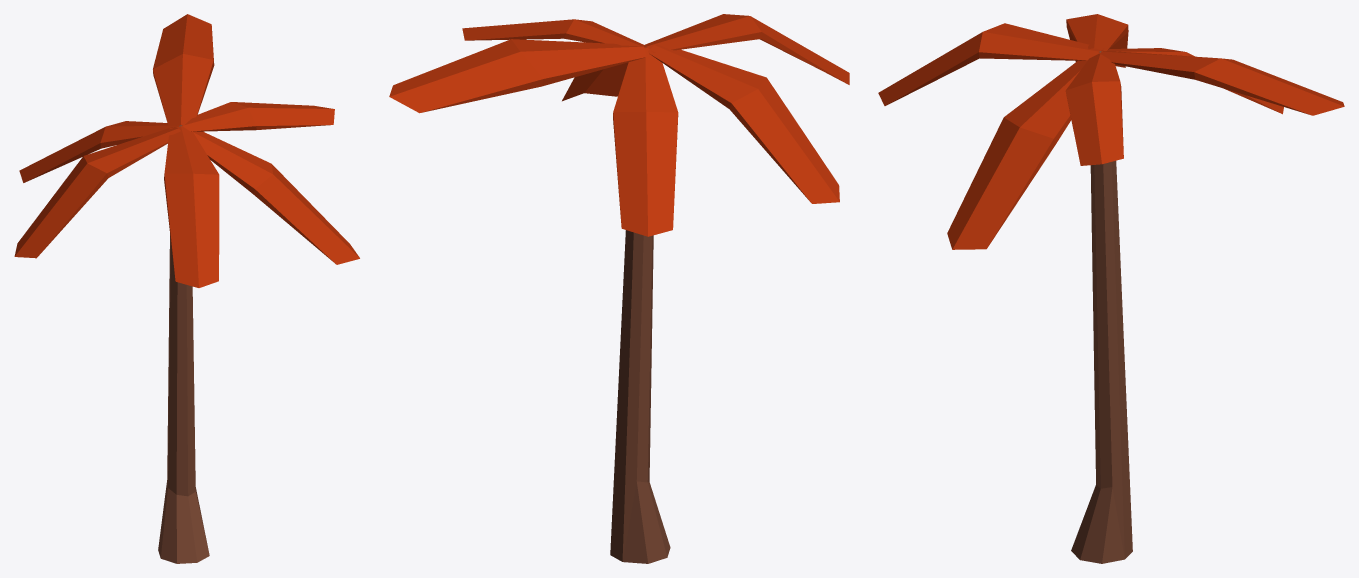
Rendered from Tree_39_summer_red_vc.fbx.
3 views of the same model, side by side, from view 1: azimuth 30°, elevation 25°; view 2: azimuth 150°, elevation 25°; view 3: azimuth 270°, elevation 25° (orthographic). The views are drawn at different scales.
Parts seen in each view (by area): view 1: Tree_39_summer_red_vc; view 2: Tree_39_summer_red_vc; view 3: Tree_39_summer_red_vc.
Part boxes in pixels (bbox=[...]): Tree_39_summer_red_vc: bbox=[14, 14, 359, 563]; Tree_39_summer_red_vc: bbox=[389, 14, 849, 563]; Tree_39_summer_red_vc: bbox=[878, 14, 1344, 563].
Size of the model in its own units: 152 by 204 by 166.
